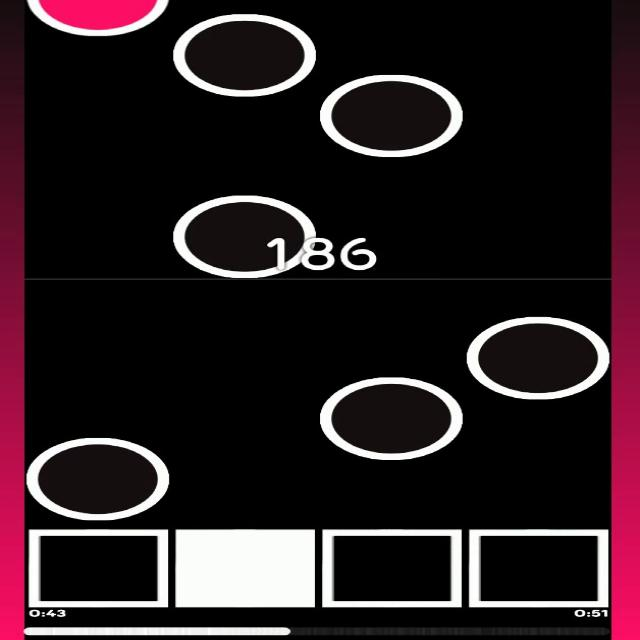note: (318, 67, 469, 160), (168, 191, 319, 279), (464, 316, 612, 402), (28, 434, 171, 520), (318, 375, 464, 459), (174, 13, 318, 96)
start_hold: (31, 0, 168, 39)
